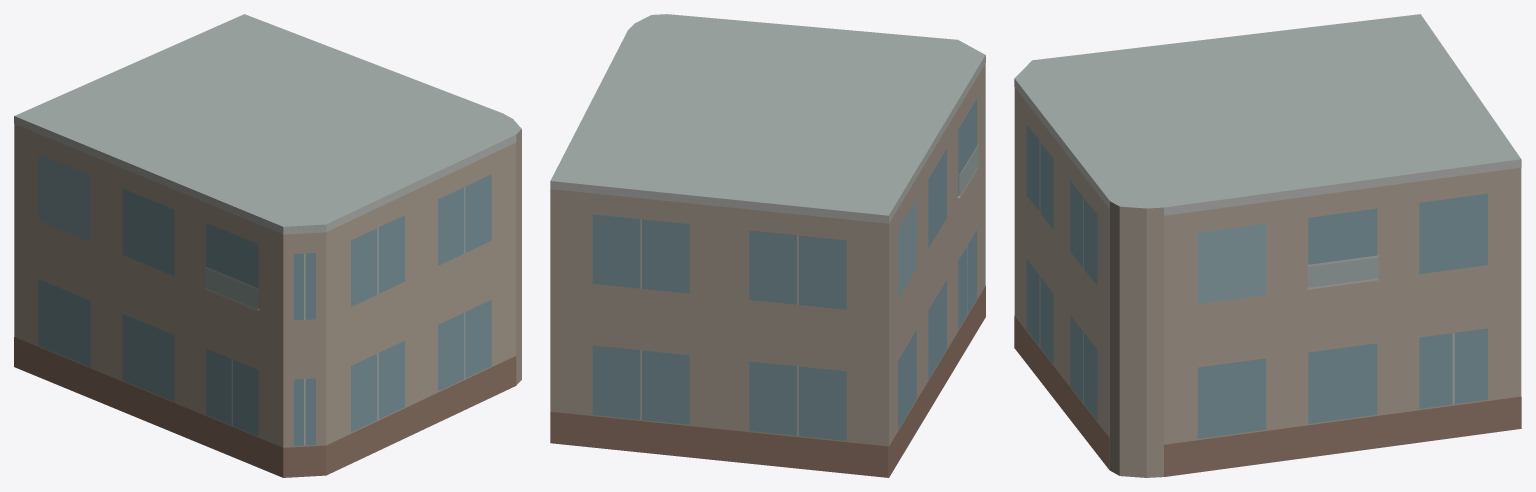
File: survey-upis-32500670.glb
3 views of the same model, side by side, from view 1: azimuth 30°, elevation 25°; view 2: azimuth 150°, elevation 25°; view 3: azimuth 270°, elevation 25° (orthographic). The views are drawn at different scales.
Parts seen in each view (by area): view 1: survey-upis-32500670.tmp; view 2: survey-upis-32500670.tmp; view 3: survey-upis-32500670.tmp.
Boxes of the visible parts, left/top/right/bottom form: survey-upis-32500670.tmp: left=14, top=14, right=521, bottom=477; survey-upis-32500670.tmp: left=550, top=14, right=985, bottom=477; survey-upis-32500670.tmp: left=1014, top=14, right=1521, bottom=477.
Bounding box in the file's own units: 12.23 × 7.9 × 13.48.
